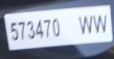0: (52, 18, 61, 36)
3: (26, 19, 35, 41)
4: (35, 18, 44, 39)
5: (9, 21, 19, 42)
7: (18, 19, 27, 41), (43, 17, 51, 38)
w: (93, 12, 109, 34), (78, 14, 93, 35)
